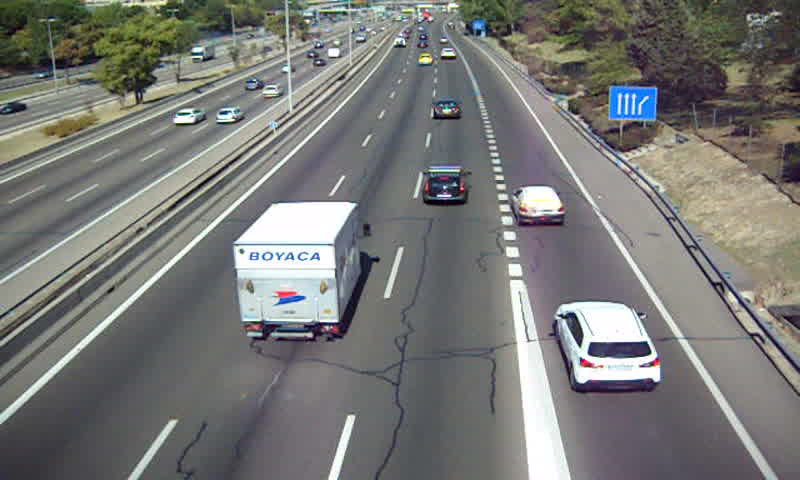car: (555, 302, 662, 394), (420, 165, 472, 205), (512, 186, 566, 224), (430, 100, 461, 121), (440, 47, 457, 60), (416, 52, 433, 65)
small-truck: (230, 201, 364, 343)
